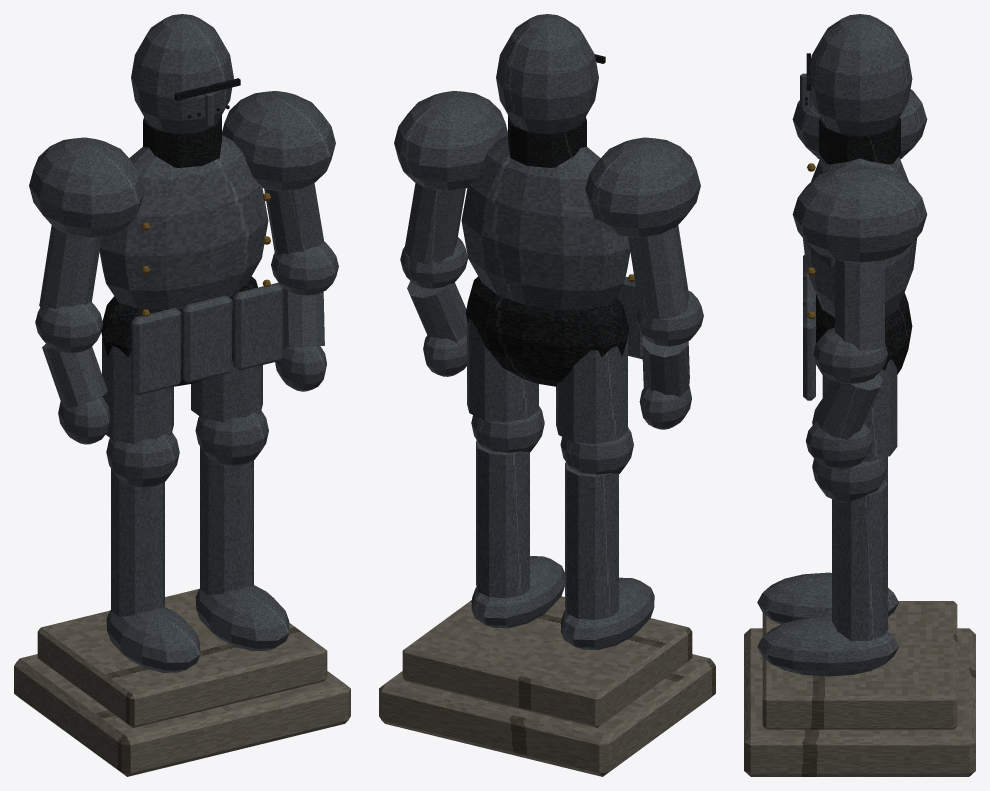
The model's file is level_castle_armour_display.glb.
The picture shows the model from 3 angles, left to right: view 1: azimuth 30°, elevation 25°; view 2: azimuth 150°, elevation 25°; view 3: azimuth 270°, elevation 25°; orthographic projection.
Parts seen in each view (by area): view 1: Shaped cuirass, Plinth die, Plinth foot, Close helm, Layered pauldron, Layered pauldron.001, Greave.001, Greave, Sabatons.001, Sabatons, Cuisses, Overlapping tasset.001 (+15 smaller); view 2: Plinth die, Shaped cuirass, Plinth foot, Mail skirt, Close helm, Layered pauldron, Layered pauldron.001, Greave, Greave.001, Cuisses, Upper arm vambrace, Cuisses.001 (+13 smaller); view 3: Plinth die, Plinth foot, Layered pauldron.001, Close helm, Greave.001, Sabatons.001, Upper arm vambrace.001, Shaped cuirass, Sabatons, Forearm plate.001, Elbow couter.001, Gorget (+6 smaller).
Boxes of the visible parts, <box> form: Shaped cuirass: <box>99,135,268,309</box>; Plinth die: <box>37,589,327,727</box>; Plinth foot: <box>14,654,350,776</box>; Close helm: <box>131,14,233,133</box>; Layered pauldron: <box>29,137,144,237</box>; Layered pauldron.001: <box>222,91,335,191</box>; Greave.001: <box>200,446,253,595</box>; Greave: <box>111,468,164,617</box>; Sabatons.001: <box>195,585,289,651</box>; Sabatons: <box>106,606,200,672</box>; Cuisses: <box>102,338,173,443</box>; Overlapping tasset.001: <box>182,295,232,383</box>; Plinth die: <box>402,596,692,727</box>; Shaped cuirass: <box>461,135,630,310</box>; Plinth foot: <box>379,654,715,776</box>; Mail skirt: <box>465,276,629,386</box>; Close helm: <box>496,14,598,133</box>; Layered pauldron: <box>585,137,700,237</box>; Layered pauldron.001: <box>394,91,507,191</box>; Greave: <box>565,462,618,620</box>; Greave.001: <box>476,440,529,598</box>; Cuisses: <box>556,338,627,443</box>; Upper arm vambrace: <box>628,225,689,319</box>; Cuisses.001: <box>467,319,538,422</box>; Plinth die: <box>762,601,957,729</box>; Plinth foot: <box>744,628,975,776</box>; Layered pauldron.001: <box>792,164,927,262</box>; Close helm: <box>809,14,912,135</box>; Greave.001: <box>832,479,887,640</box>; Sabatons.001: <box>757,617,898,676</box>; Upper arm vambrace.001: <box>835,260,884,350</box>; Shaped cuirass: <box>803,156,916,317</box>; Sabatons: <box>757,572,898,624</box>; Forearm plate.001: <box>815,373,882,439</box>; Elbow couter.001: <box>813,327,887,383</box>; Gorget: <box>819,117,900,164</box>.
Size of the model in its own units: 0.92 by 2.08 by 0.62.
4 materials, 4 textured.
